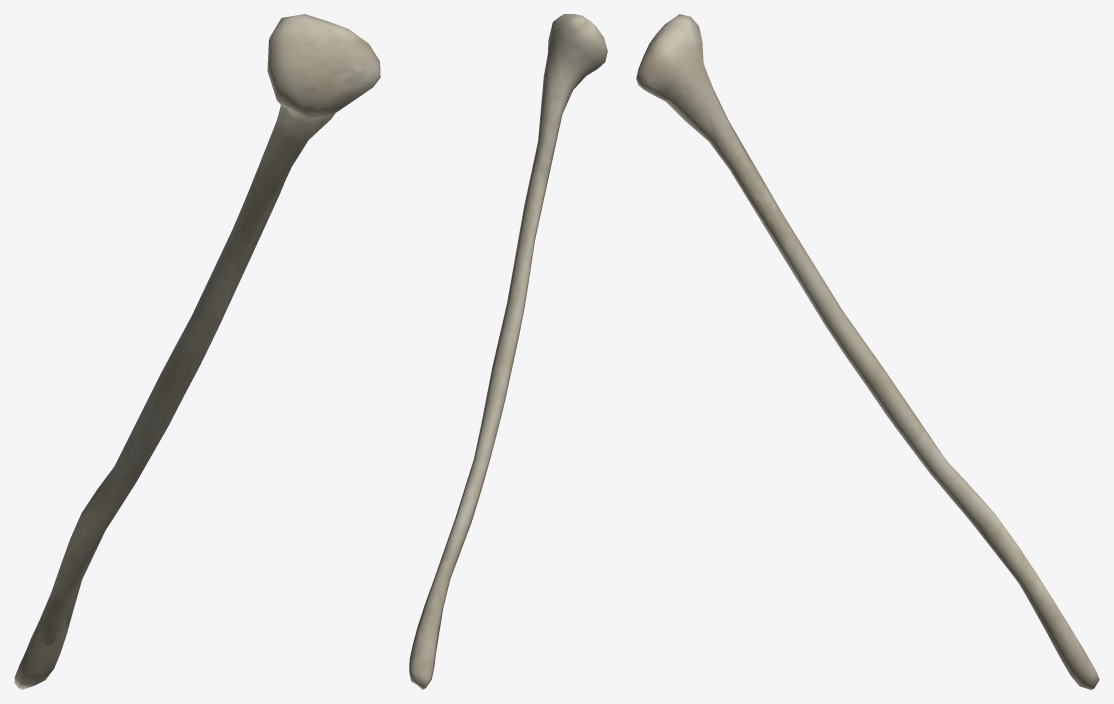
Rendered from R Fibula.fbx.
3 views of the same model, side by side, from view 1: azimuth 30°, elevation 25°; view 2: azimuth 150°, elevation 25°; view 3: azimuth 270°, elevation 25° (orthographic). The views are drawn at different scales.
Parts seen in each view (by area): view 1: R Fibula, R Fibula low, R Fibula high; view 2: R Fibula, R Fibula low, R Fibula high; view 3: R Fibula, R Fibula low, R Fibula high.
Part boxes in pixels (bbox=[...]): R Fibula: bbox=[14, 14, 380, 689]; R Fibula low: bbox=[14, 14, 379, 685]; R Fibula high: bbox=[24, 43, 360, 663]; R Fibula: bbox=[409, 14, 607, 689]; R Fibula low: bbox=[409, 18, 606, 689]; R Fibula high: bbox=[413, 20, 598, 684]; R Fibula: bbox=[636, 14, 1096, 689]; R Fibula low: bbox=[637, 14, 1099, 689]; R Fibula high: bbox=[647, 39, 1087, 679].
Size of the model in its own units: 0.8386 by 7.49 by 4.64.
Materials: 1 (1 with a texture image).
